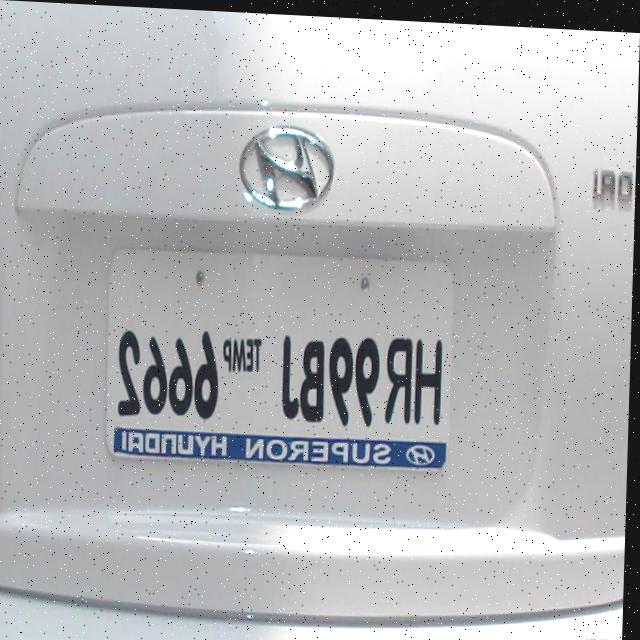plate: (107, 241, 460, 469)
